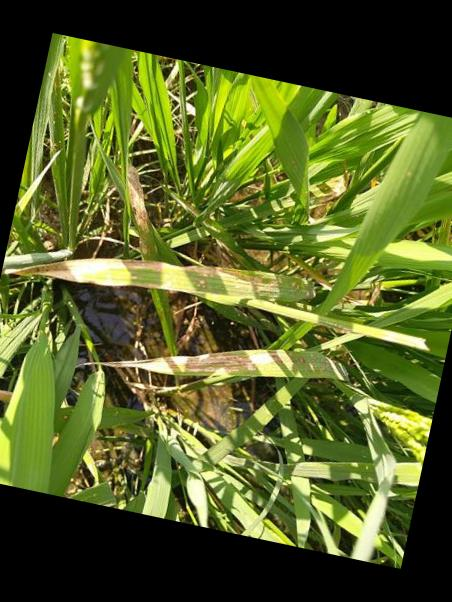Leaf Streak: (23, 257, 315, 306), (90, 348, 348, 382), (127, 164, 153, 253)
